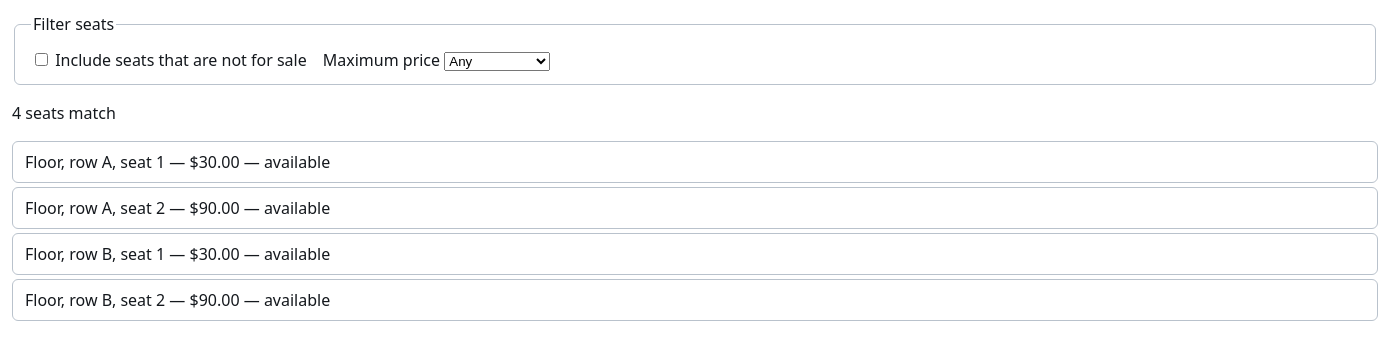
SeatListMode › filters by price, which is what a list is better than a grid at
Select "$30.00 or less" in the dropdown labelled "Maximum price". click: [497, 62]
box: x1=444 y1=52 x2=550 y2=71
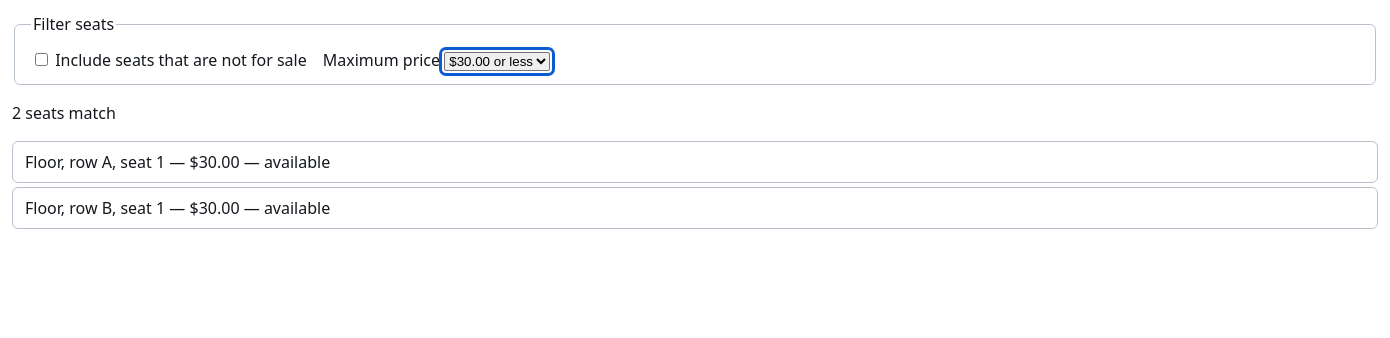
Check: the message reads "2 seats match", box x1=12 y1=102 x2=116 y2=124
